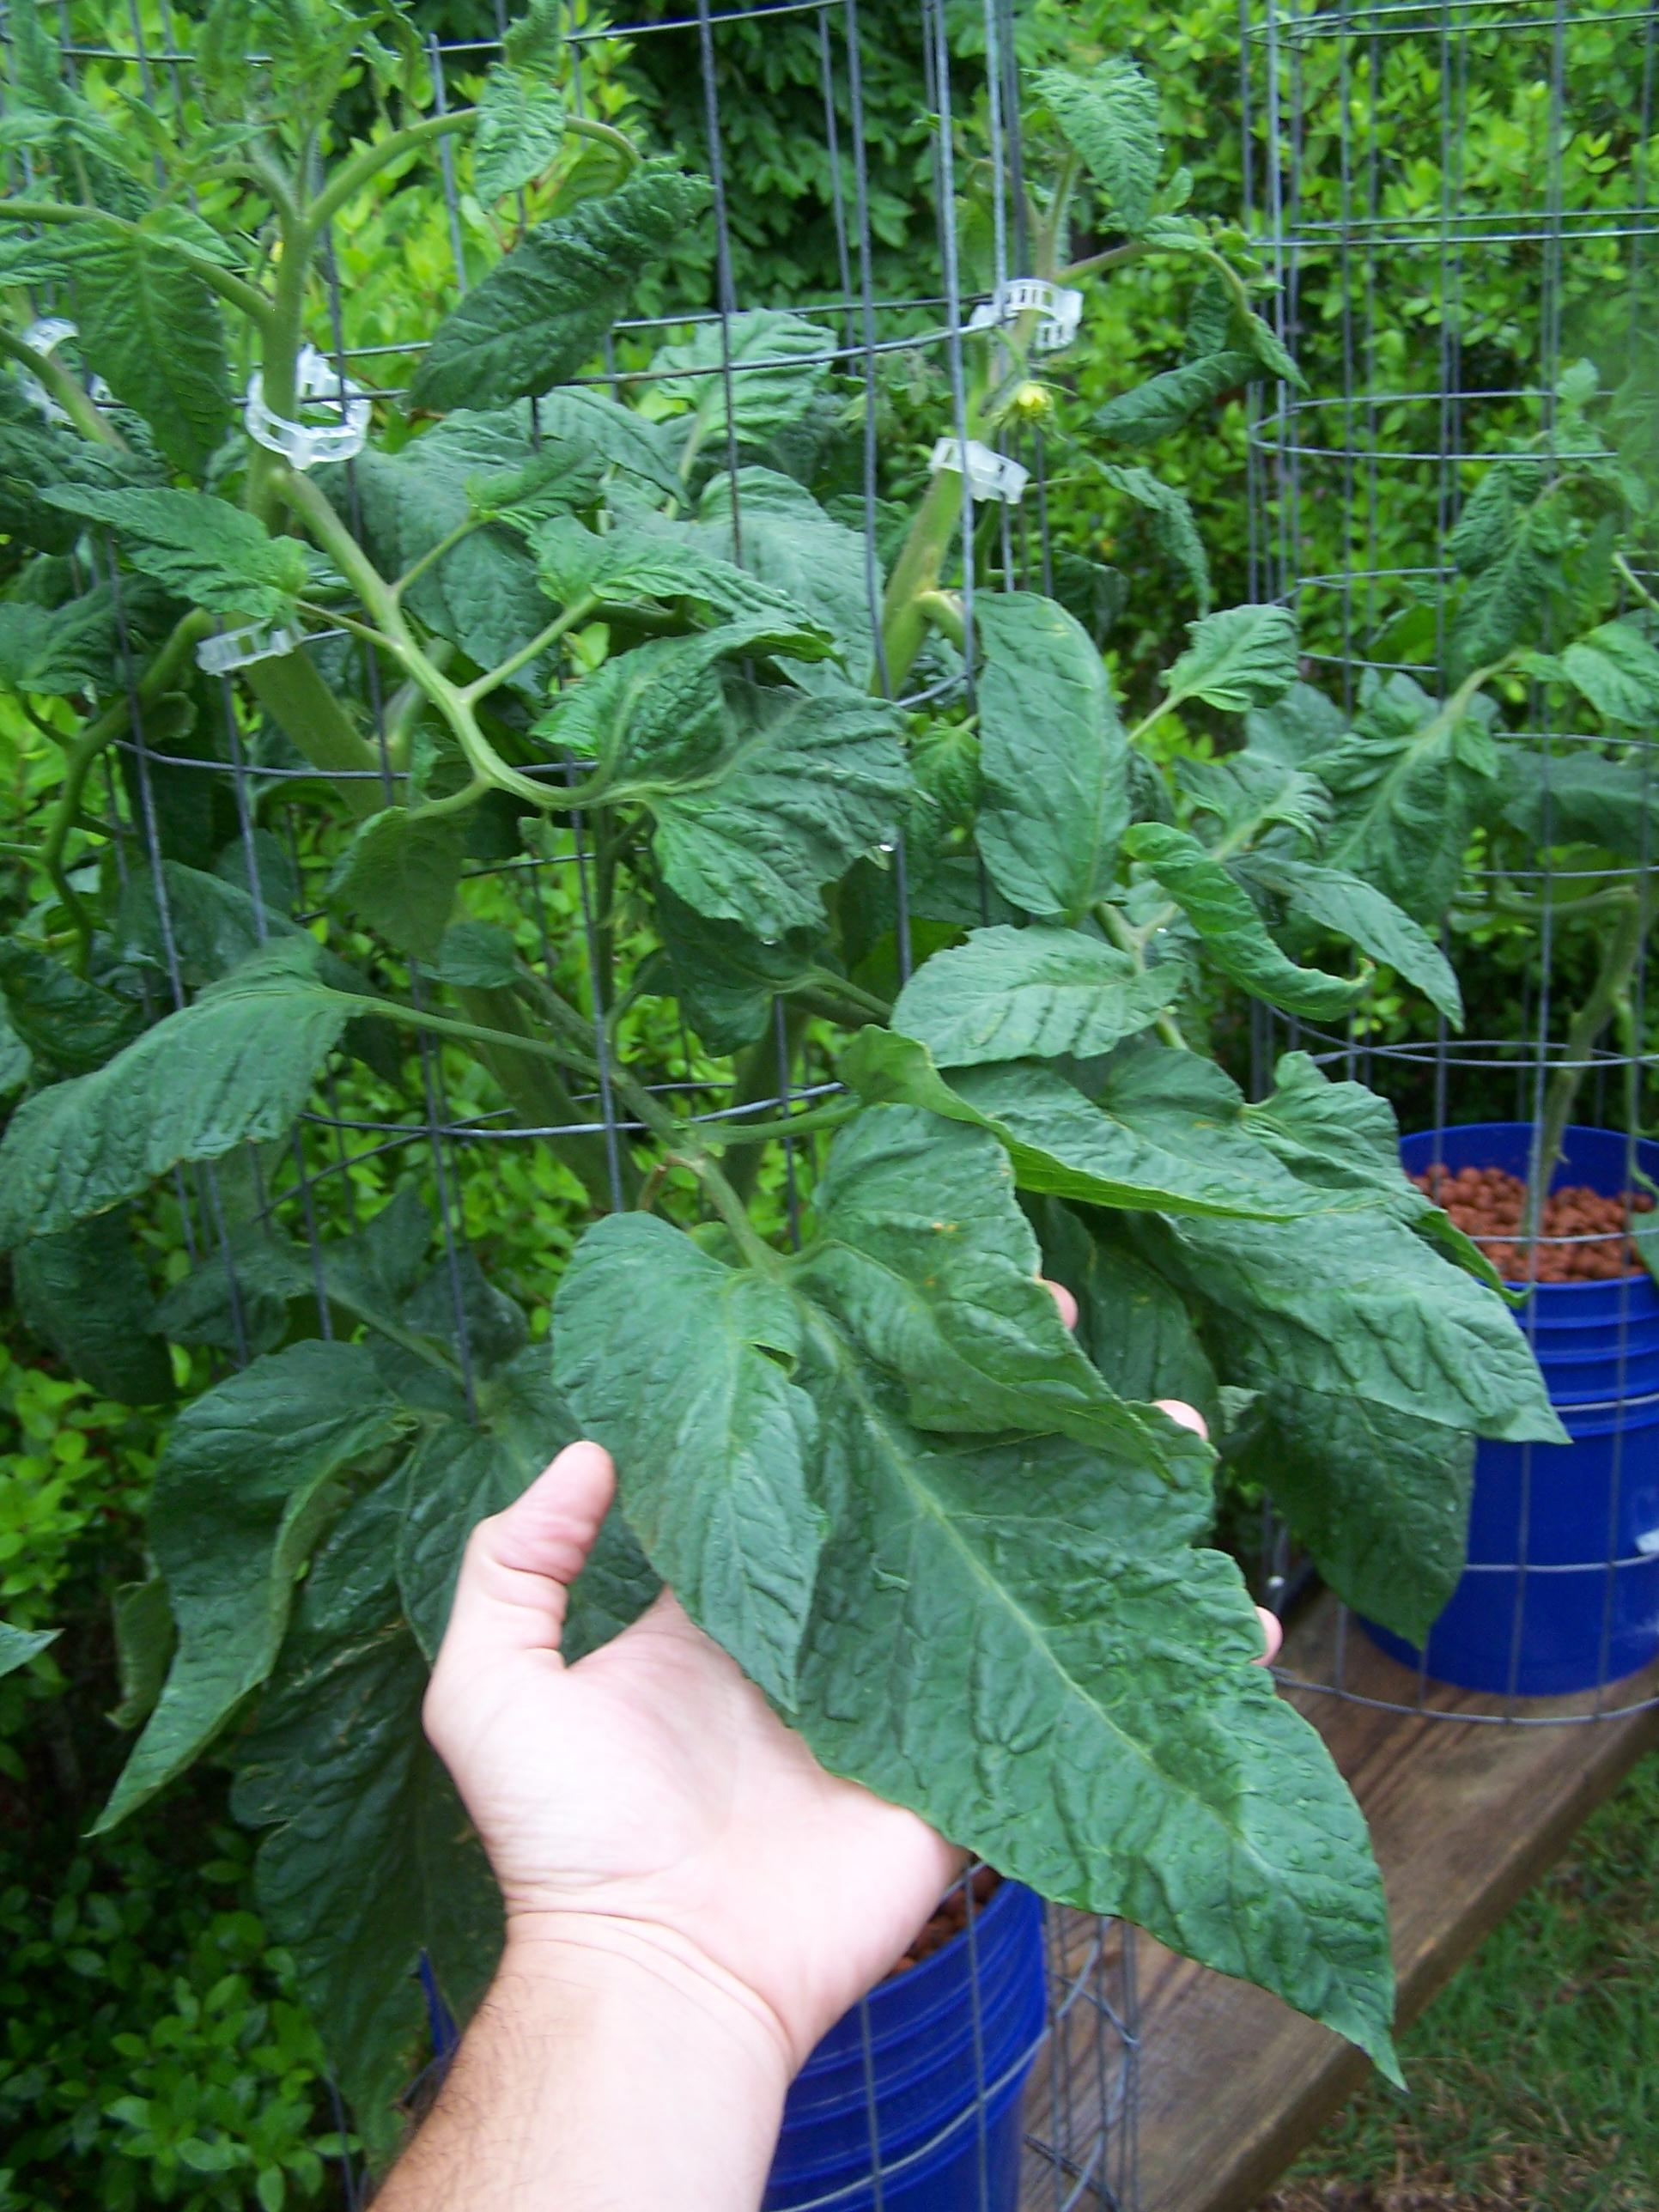Tomato leaf bacterial spot: (594, 1205, 1420, 2071), (1025, 1083, 1568, 1456), (14, 967, 331, 1216), (941, 597, 1126, 958), (631, 709, 897, 914), (47, 448, 314, 639), (856, 944, 1180, 1092), (1152, 594, 1317, 712)
